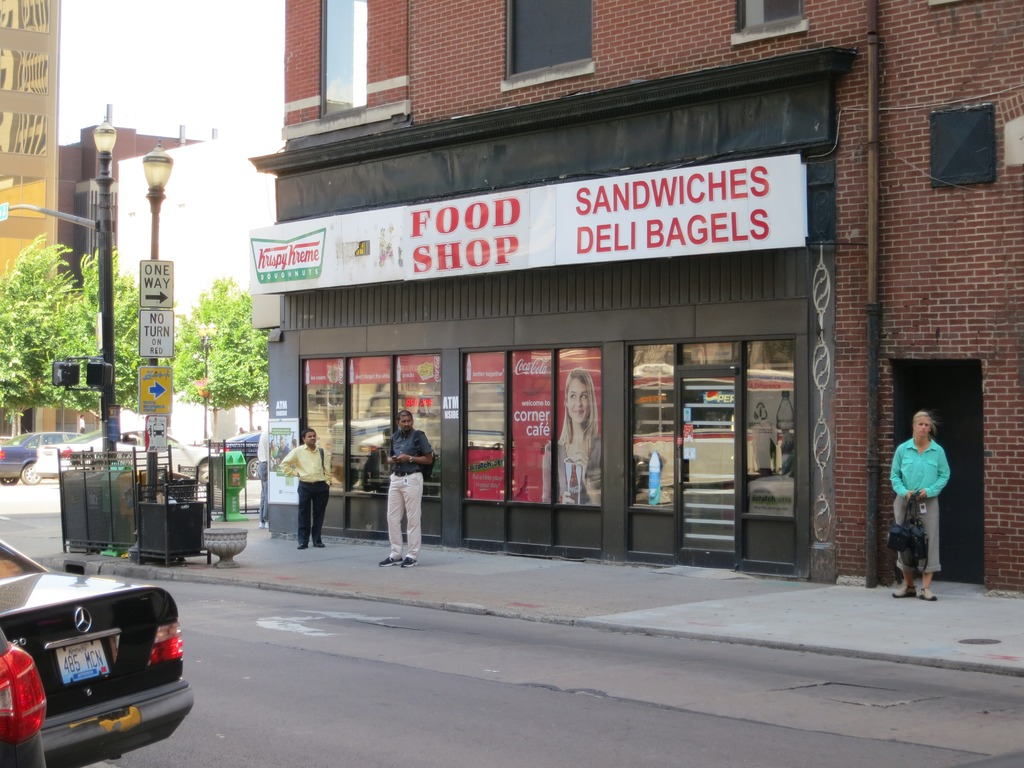mobil: (1, 540, 193, 764)
